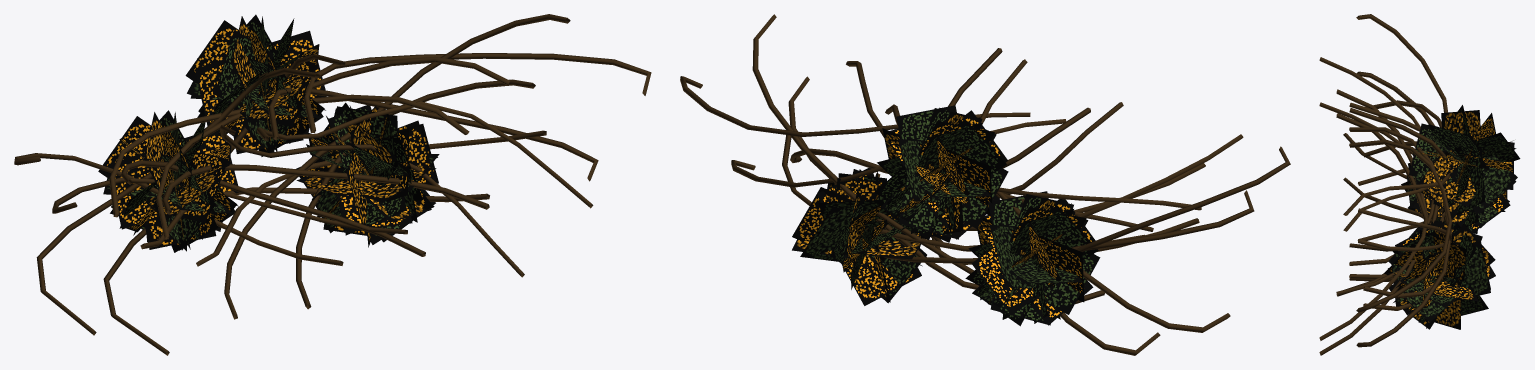
File: TreeRoot4.fbx
3 renders of one model, left to right at view 1: azimuth 30°, elevation 25°; view 2: azimuth 150°, elevation 25°; view 3: azimuth 270°, elevation 25°, orthographic. The views are drawn at different scales.
Parts seen in each view (by area): view 1: TreeRoot4; view 2: TreeRoot4; view 3: TreeRoot4.
Part boxes in pixels (left/top/right/bottom): TreeRoot4: left=14, top=14, right=651, bottom=355; TreeRoot4: left=680, top=14, right=1290, bottom=355; TreeRoot4: left=1319, top=14, right=1520, bottom=355.
Bounding box in the file's own units: 1216 × 469 × 429.
